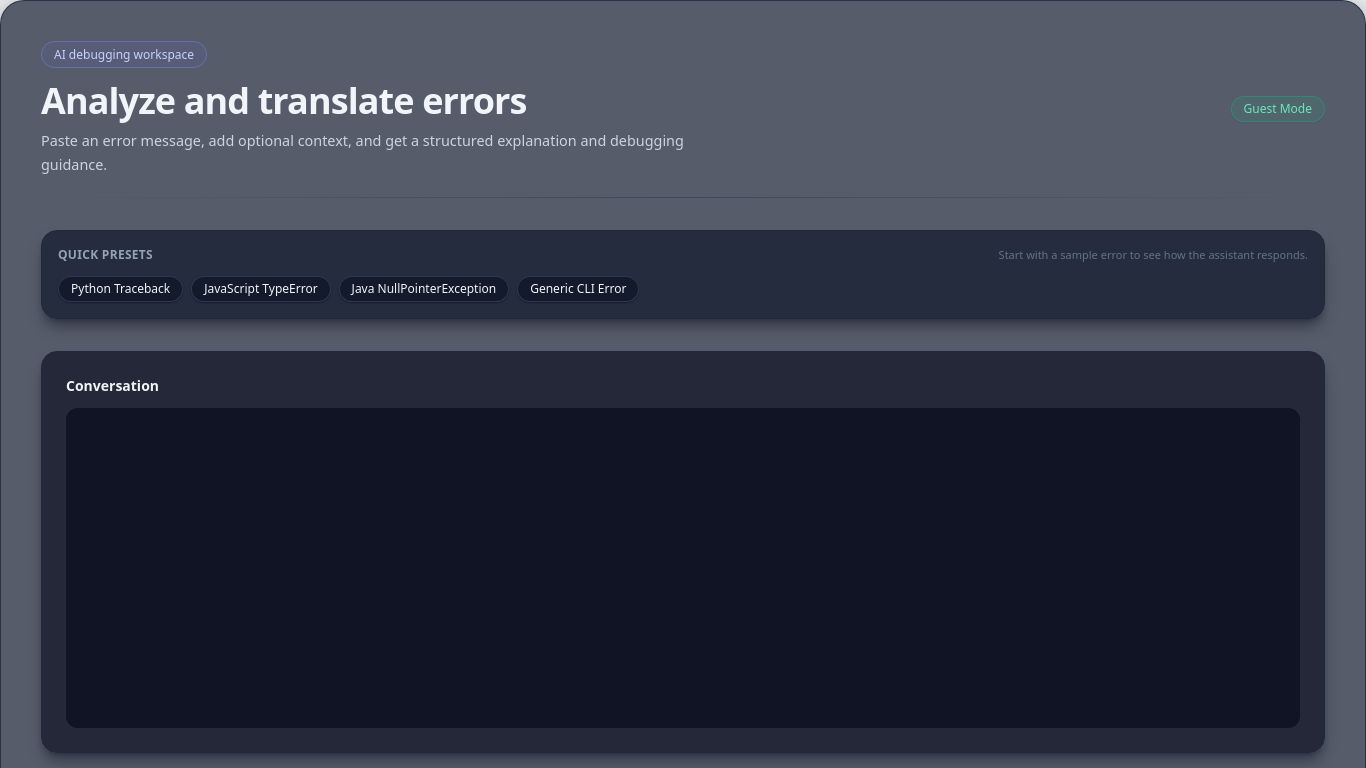
Test: AnalyzerPage Component › applies an example preset when clicked
Click the button "Python Traceback" at (121, 288), box left=58, top=276, right=183, bottom=302
(page scrolled)
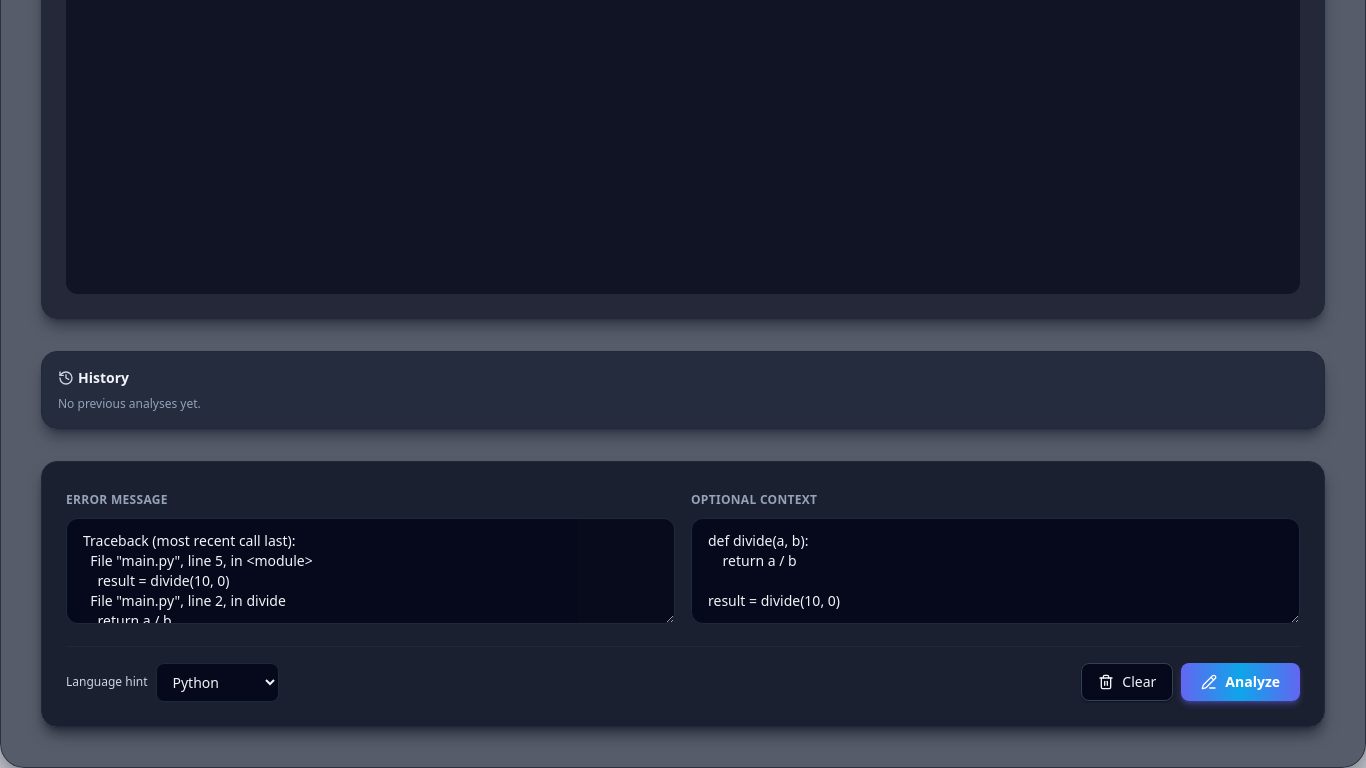
Check: the 1st text box with placeholder "Paste your error message here..." is not empty, box left=66, top=518, right=675, bottom=624
